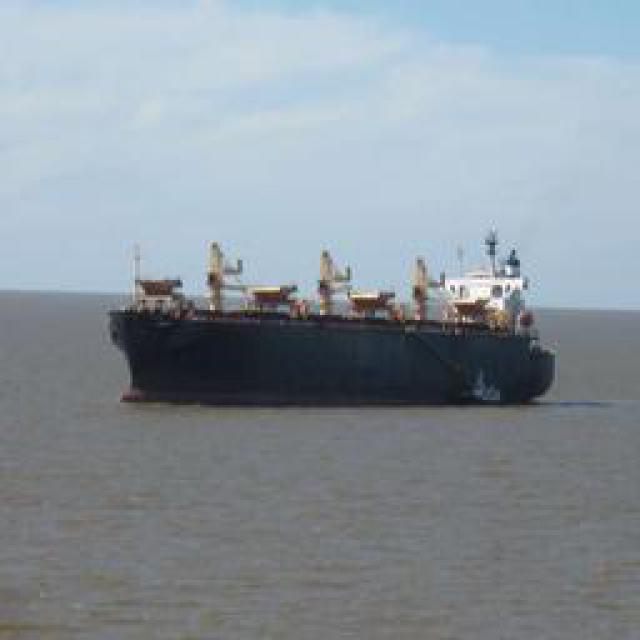Ship: (120, 233, 555, 408)
